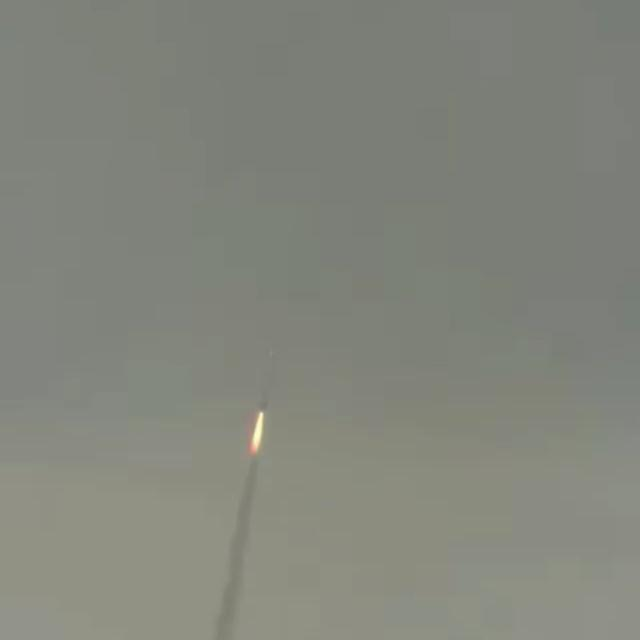smoke_trail_with_rocket: (210, 352, 278, 640)
